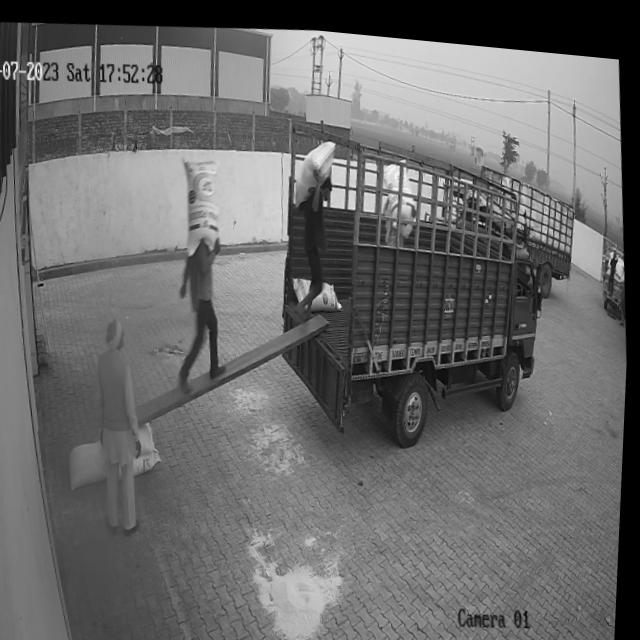sack: (182, 152, 227, 256), (293, 131, 341, 207), (69, 434, 114, 488), (292, 267, 345, 310), (137, 444, 165, 474), (137, 417, 158, 451)
